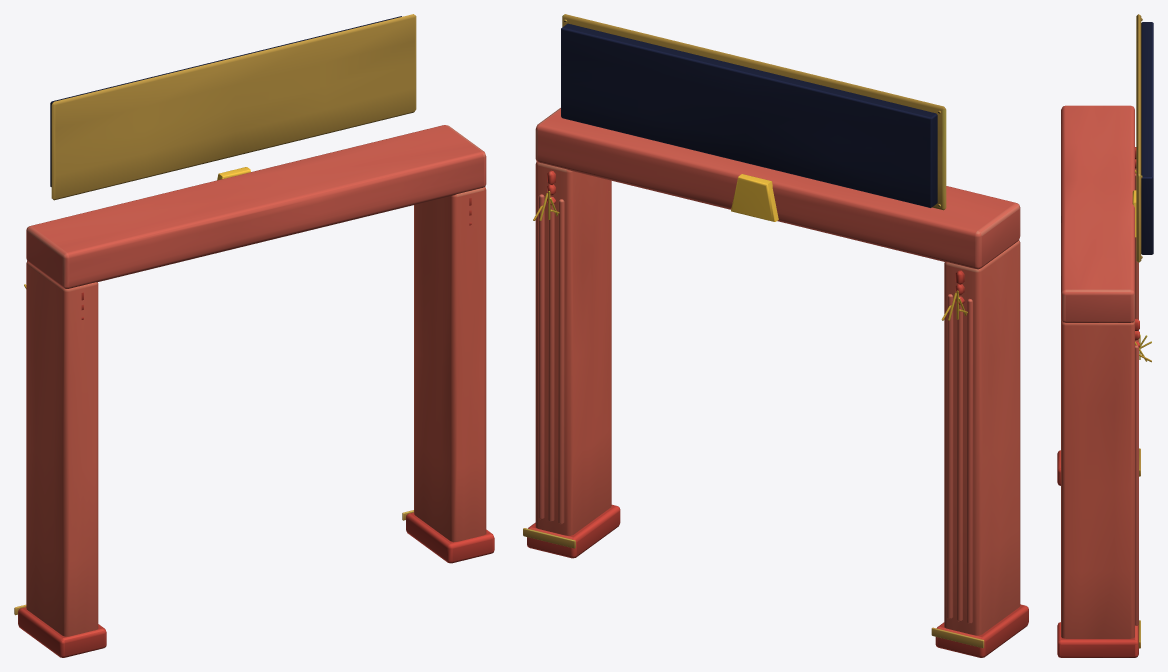
File: SM_Lobby_OfficeDoorSurround.fbx
3 renders of one model, left to right at view 1: azimuth 30°, elevation 25°; view 2: azimuth 150°, elevation 25°; view 3: azimuth 270°, elevation 25°, orthographic. The views are drawn at different scales.
Visible parts, largest first — view 1: SM_Lobby_OfficeDoorSurround; view 2: SM_Lobby_OfficeDoorSurround; view 3: SM_Lobby_OfficeDoorSurround.
Boxes of the visible parts, left/top/right/bottom form: SM_Lobby_OfficeDoorSurround: left=14, top=14, right=494, bottom=657; SM_Lobby_OfficeDoorSurround: left=523, top=14, right=1028, bottom=657; SM_Lobby_OfficeDoorSurround: left=1057, top=14, right=1153, bottom=657.
Bounding box in the file's own units: 372 × 420 × 78.09.
